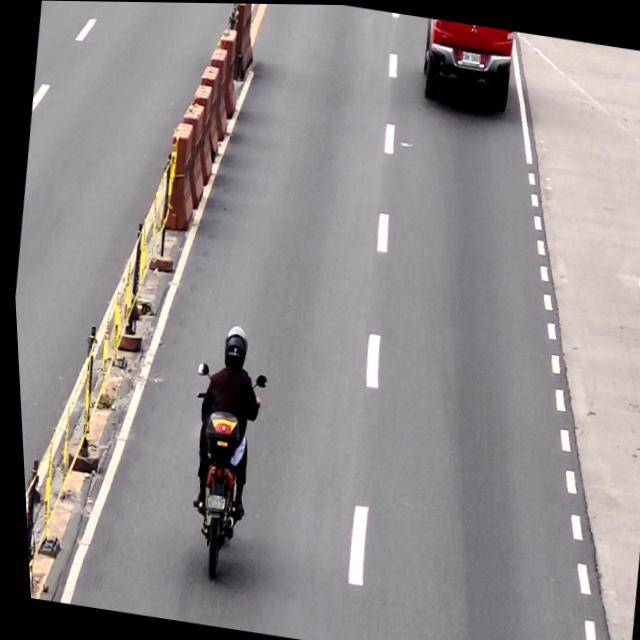Car: (416, 17, 519, 112)
License-Plate: (200, 493, 221, 513), (459, 47, 482, 64)
Motorcycle: (164, 357, 274, 589)
